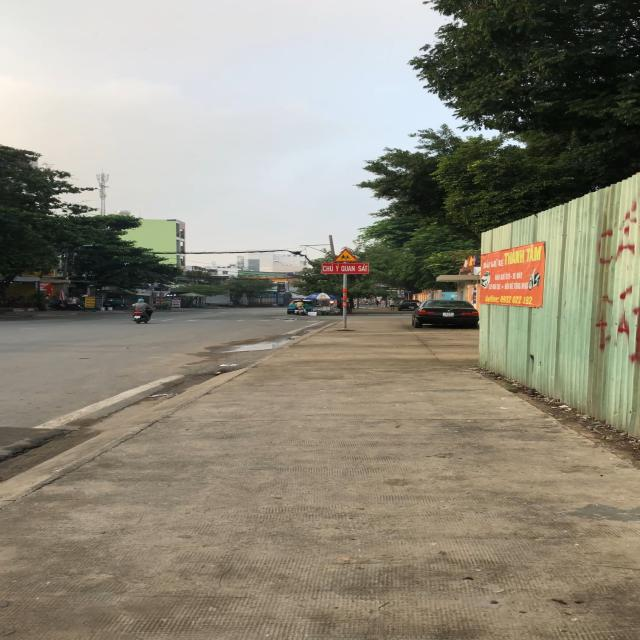Bien bao tre em: (332, 249, 362, 263)
